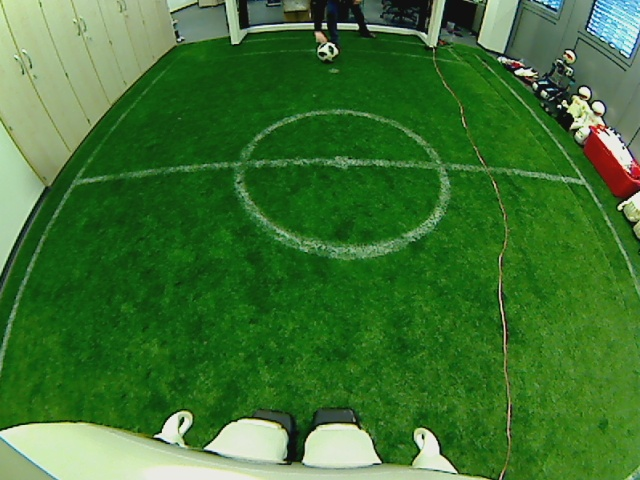ball: (316, 41, 338, 63)
